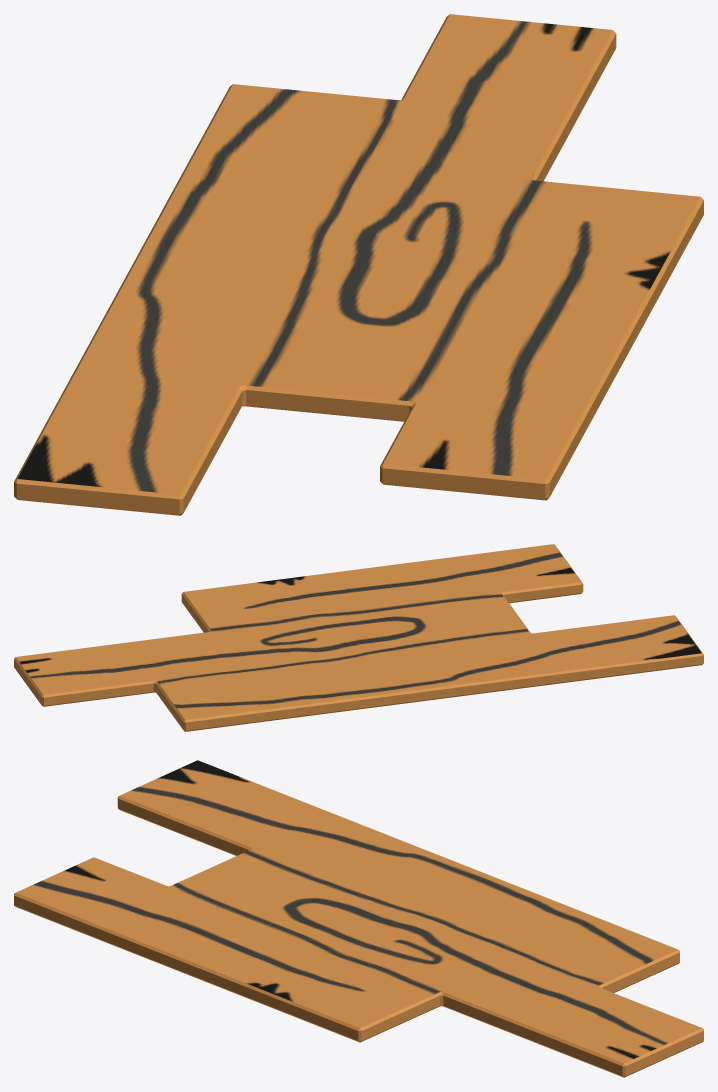
File: Planche.fbx
3 renders of one model, top to bottom at view 1: azimuth 30°, elevation 25°; view 2: azimuth 150°, elevation 25°; view 3: azimuth 270°, elevation 25°, orthographic. The views are drawn at different scales.
Parts seen in each view (by area): view 1: Asset_4; view 2: Asset_4; view 3: Asset_4.
Part boxes in pixels (x1,y1,x2,y2): Asset_4: (14, 14, 703, 515); Asset_4: (14, 544, 703, 731); Asset_4: (14, 760, 703, 1077).
Size of the model in its own units: 8.26 by 0.182 by 7.91.
Materials: 1 (1 with a texture image).
